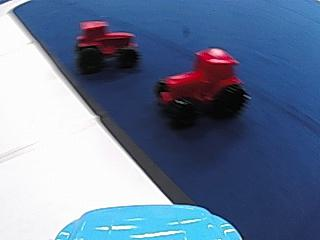Tracktor: (151, 44, 251, 124), (75, 15, 139, 73)
